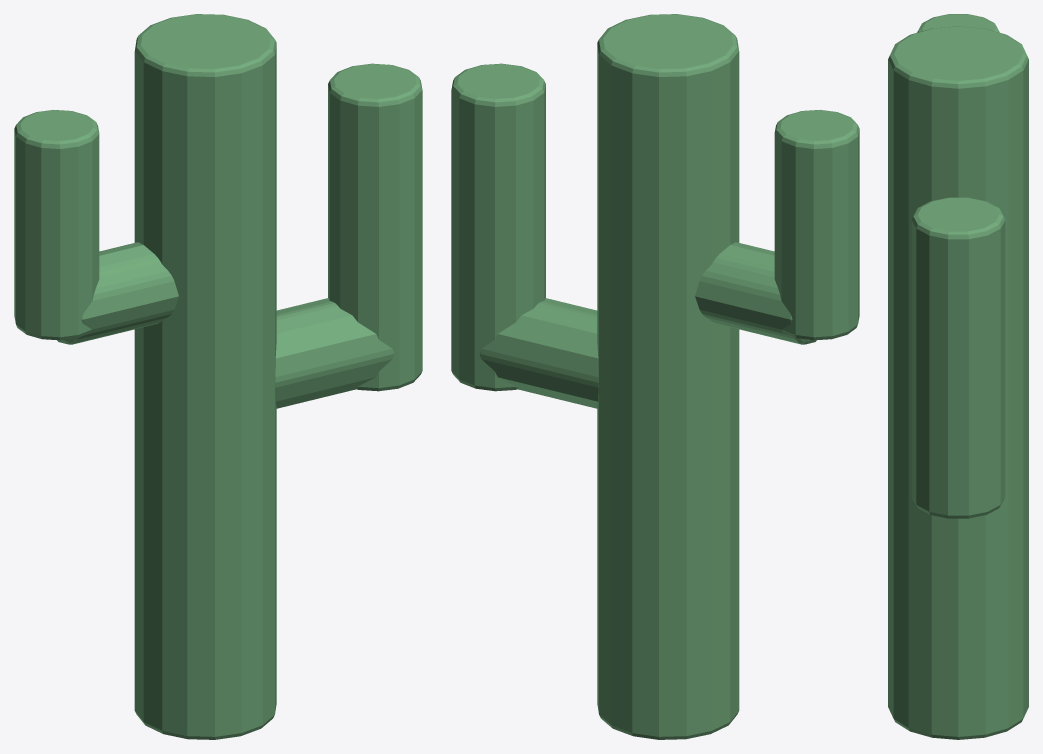
The model's file is prop-cactus.glb.
3 renders of one model, left to right at view 1: azimuth 30°, elevation 25°; view 2: azimuth 150°, elevation 25°; view 3: azimuth 270°, elevation 25°, orthographic.
Visible parts, largest first — view 1: Cactus; view 2: Cactus; view 3: Cactus.
Part boxes in pixels (x1,y1,x2,y2): Cactus: (14,14,422,739); Cactus: (451,14,859,739); Cactus: (888,14,1028,739).
Size of the model in its own units: 1.91 by 3.1 by 0.6.
